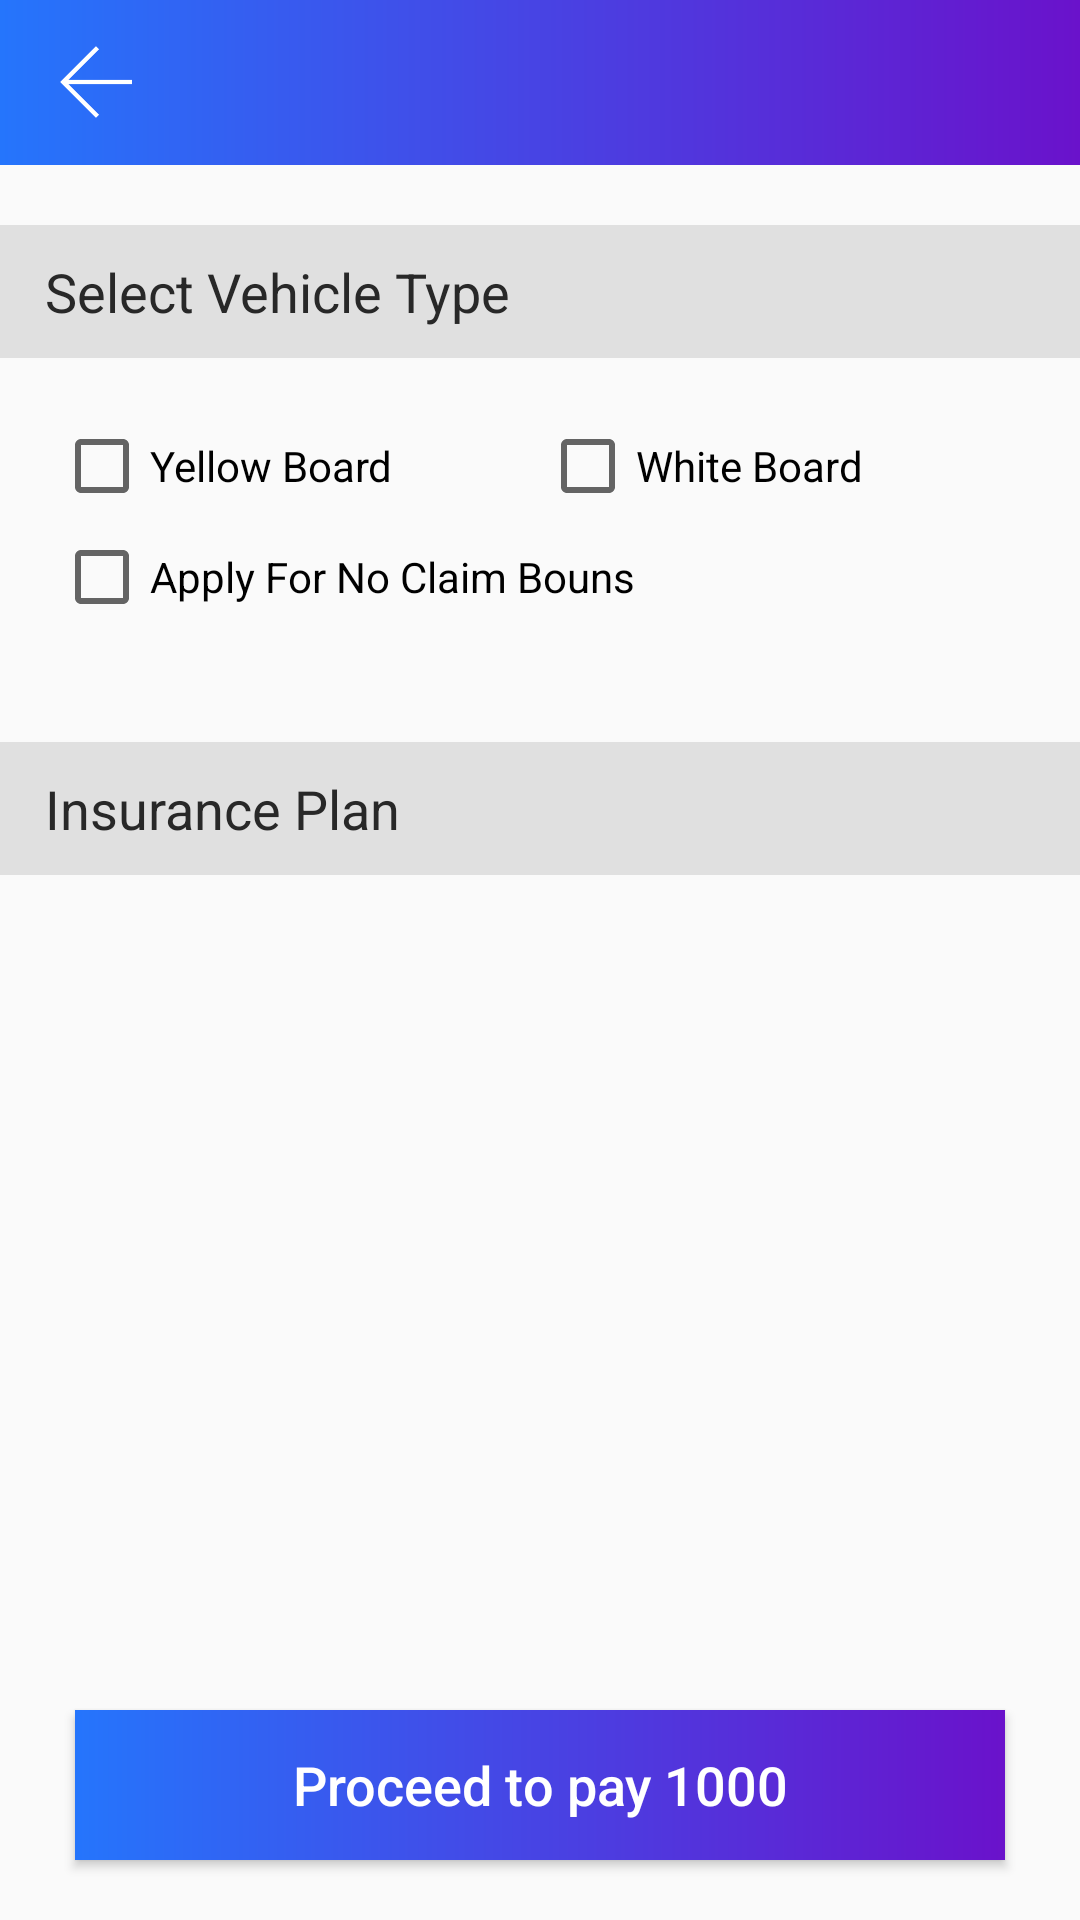

Where icons sit on this 1080*1920 app screen, as bbox(x1, y1, x2, y2):
back: bbox(60, 46, 132, 118)
